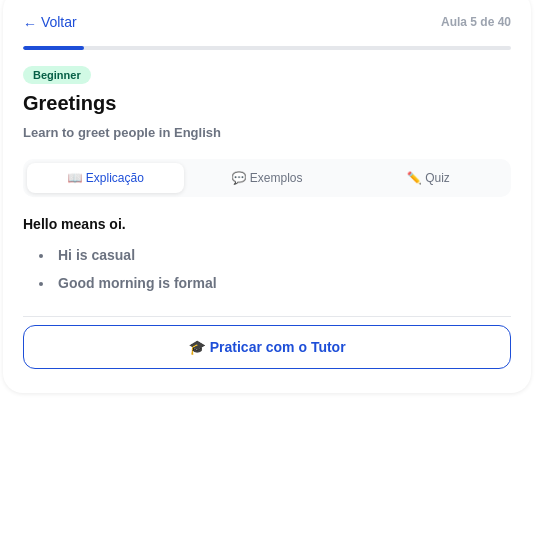
LessonView › marks the correct option when answering and advances to the next question
Click the button with class "tab" showing "✏️ Quiz".
click(428, 178)  # box [350,162,507,192]
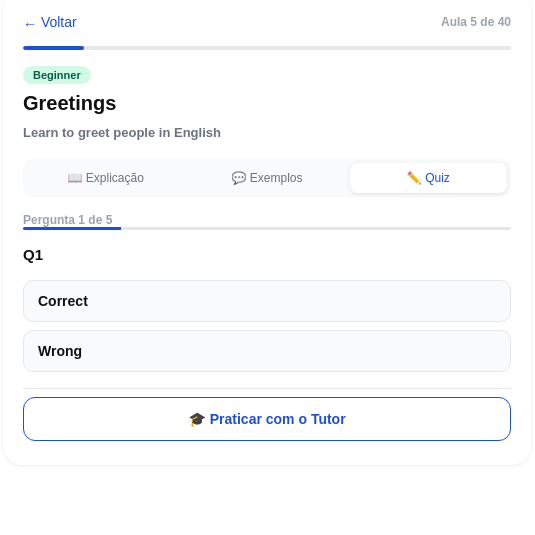
Result: the text "Pergunta 1 de 5" is shown at [23,212,112,226]
Click the button "Correct".
click(63, 301)  # box [23,280,511,322]
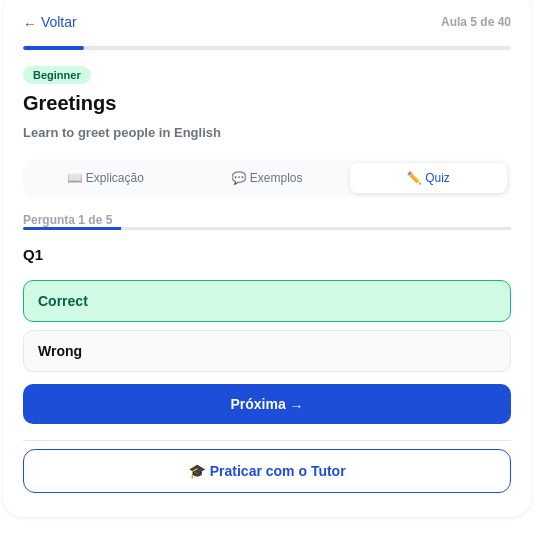
Result: the button "Correct" has class "correct" at [23,280,511,322]
Click the button with class "btn-next".
click(267, 404)  # box [23,384,511,424]
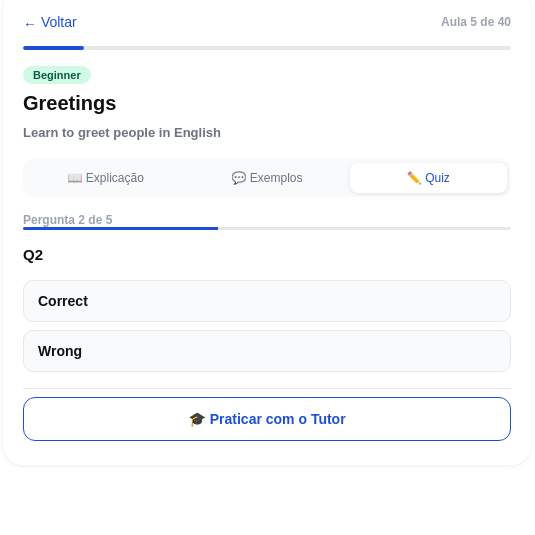
Result: the text "Pergunta 2 de 5" is shown at [23,212,112,226]
